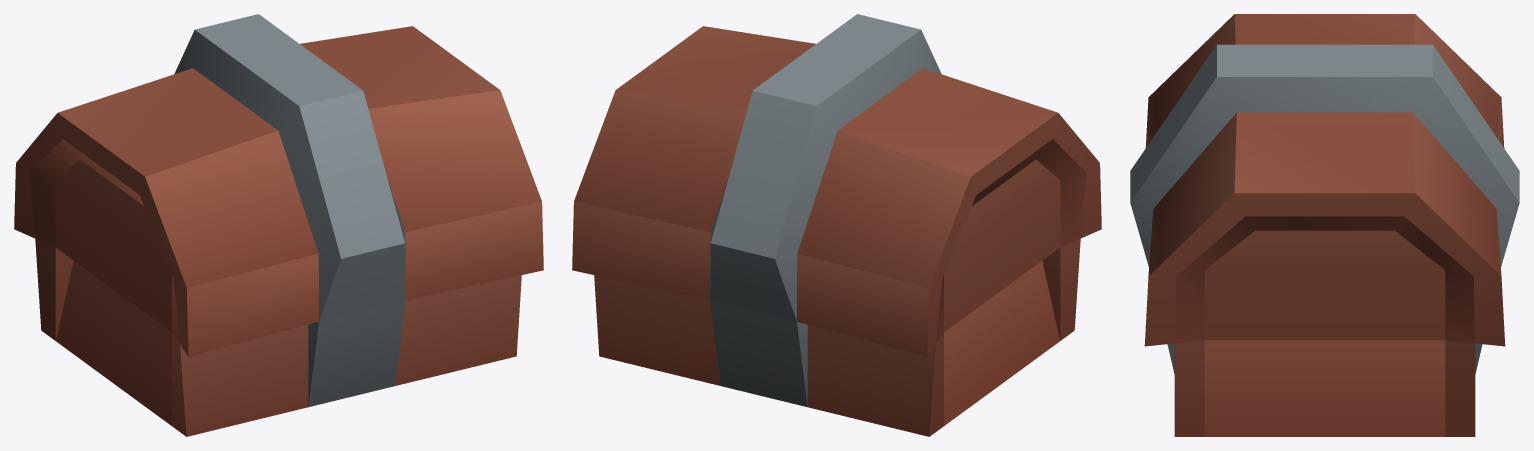
The model's file is trunk_medium_A.gltf.
3 renders of one model, left to right at view 1: azimuth 30°, elevation 25°; view 2: azimuth 150°, elevation 25°; view 3: azimuth 270°, elevation 25°, orthographic. The views are drawn at different scales.
Visible parts, largest first — view 1: trunk_medium_A; view 2: trunk_medium_A; view 3: trunk_medium_A.
Part boxes in pixels (x1=…): trunk_medium_A: x1=14, y1=14, x2=543, y2=436; trunk_medium_A: x1=572, y1=14, x2=1101, y2=436; trunk_medium_A: x1=1130, y1=14, x2=1519, y2=436.
Size of the model in its own units: 0.953 by 0.7265 by 0.8751.
Materials: 1 (1 with a texture image).
